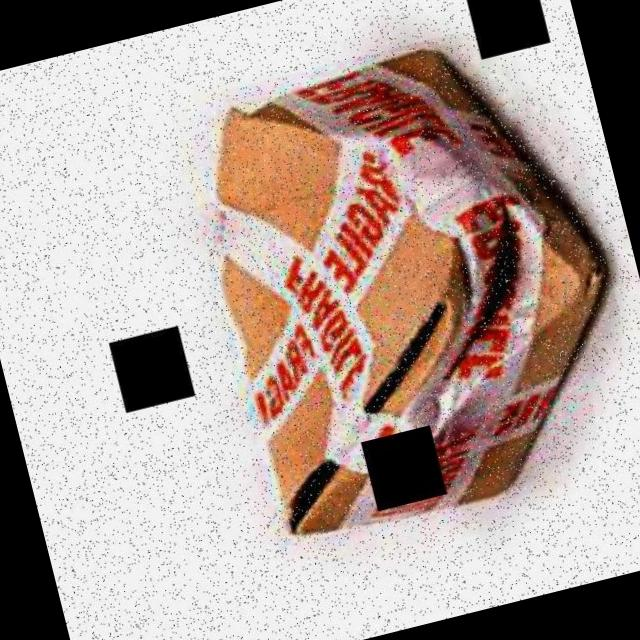box: (163, 10, 640, 557)
